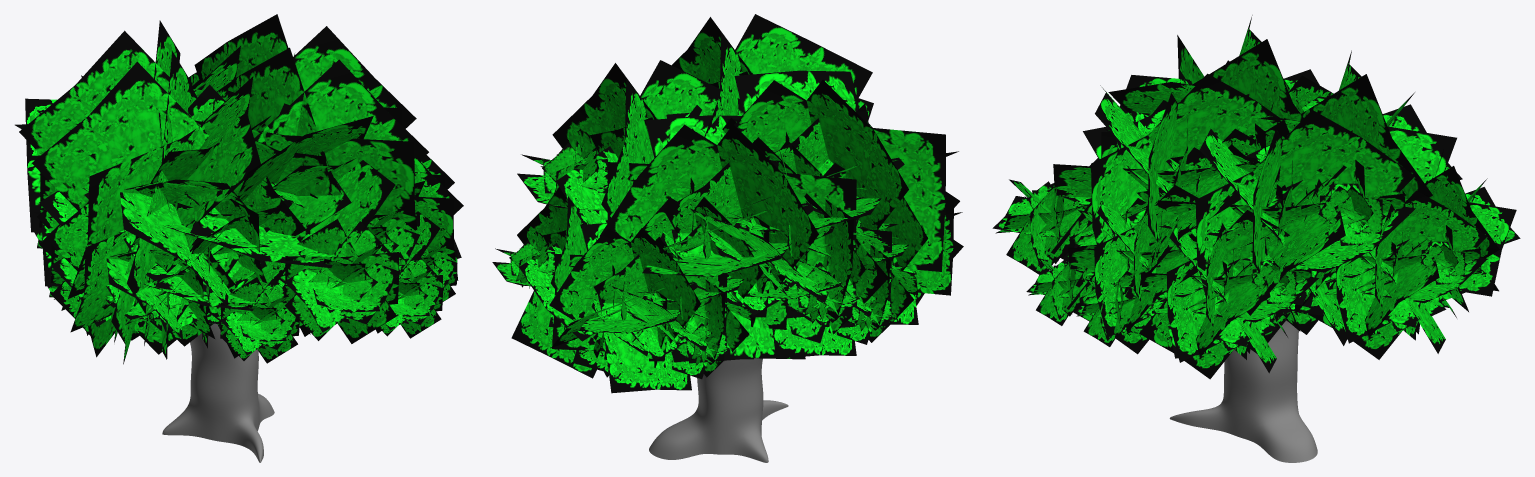
The model's file is BigWoodsTree3.fbx.
The picture shows the model from 3 angles, left to right: view 1: azimuth 30°, elevation 25°; view 2: azimuth 150°, elevation 25°; view 3: azimuth 270°, elevation 25°; orthographic projection. The views are drawn at different scales.
Visible parts, largest first — view 1: Object051; view 2: Object051; view 3: Object051.
Part boxes in pixels (bbox=[...]): Object051: bbox=[15, 14, 463, 462]; Object051: bbox=[492, 14, 963, 462]; Object051: bbox=[992, 15, 1520, 462].
Bounding box in the file's own units: 1694 × 1639 × 2078.
2 materials, 1 textured.
